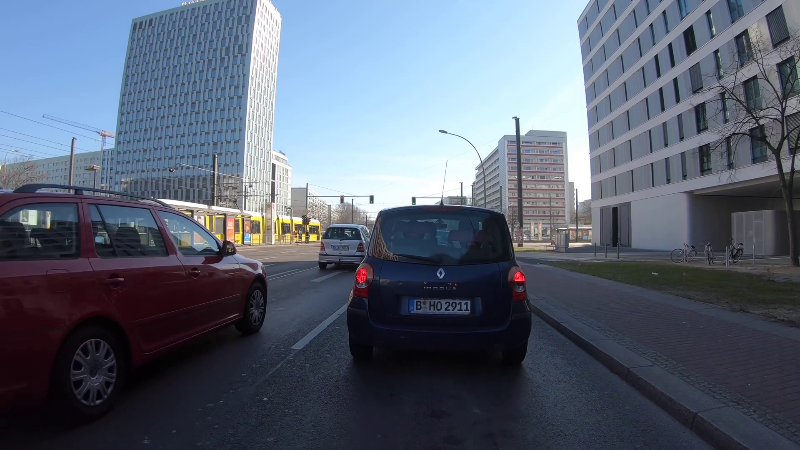Plate: (405, 295, 474, 315), (330, 244, 351, 252)
